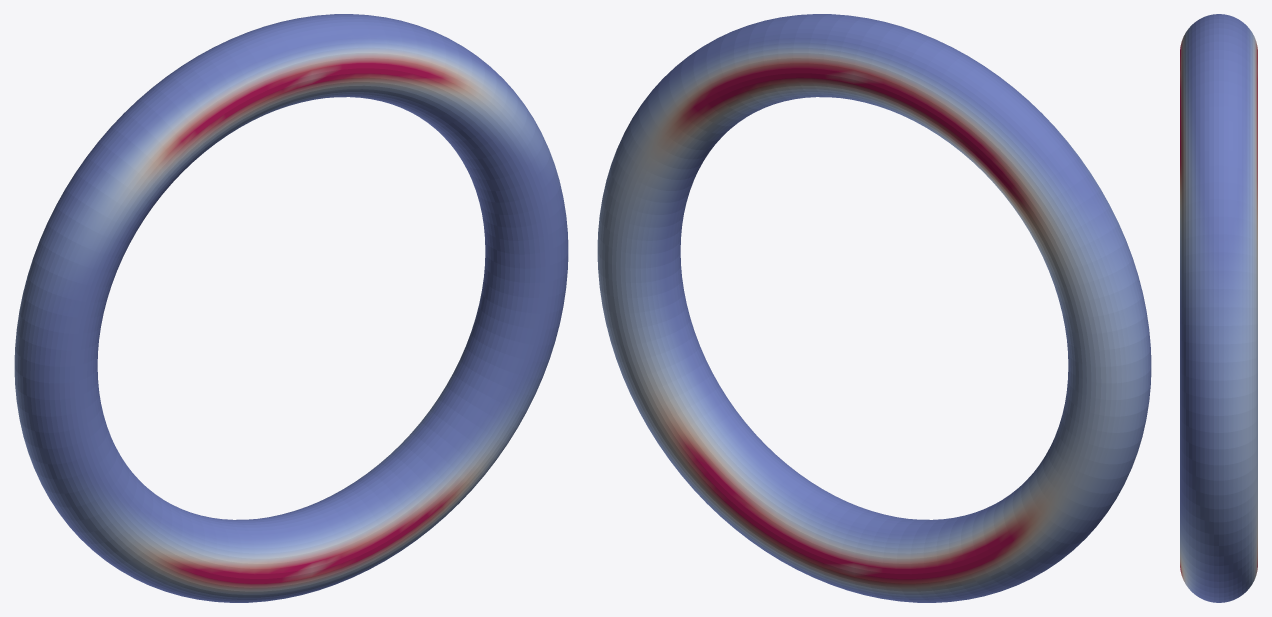
The picture shows the model from 3 angles, left to right: view 1: azimuth 30°, elevation 25°; view 2: azimuth 150°, elevation 25°; view 3: azimuth 270°, elevation 25°; orthographic projection. The views are drawn at different scales.
Visible parts, largest first — view 1: world; view 2: world; view 3: world.
Boxes of the visible parts, x1,y1,x2,y2 form: world: (14, 14, 568, 602); world: (597, 14, 1151, 602); world: (1180, 14, 1257, 602).
Bounding box in the file's own units: 21.78 × 21.78 × 2.88.
